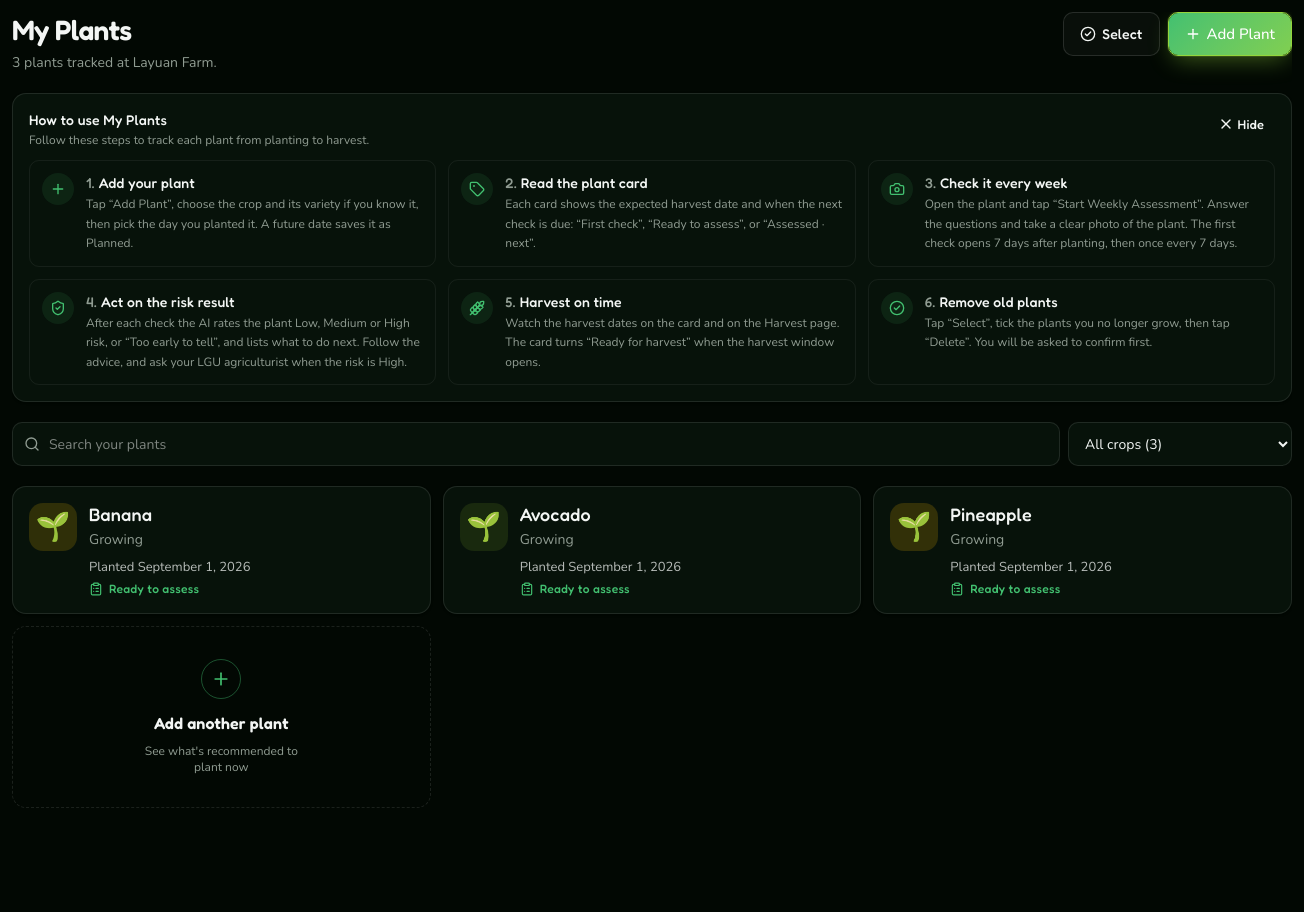
it: My Plants › leaves selection mode with Cancel
Click the button "Select": (1111, 34) [1063,12,1160,56]
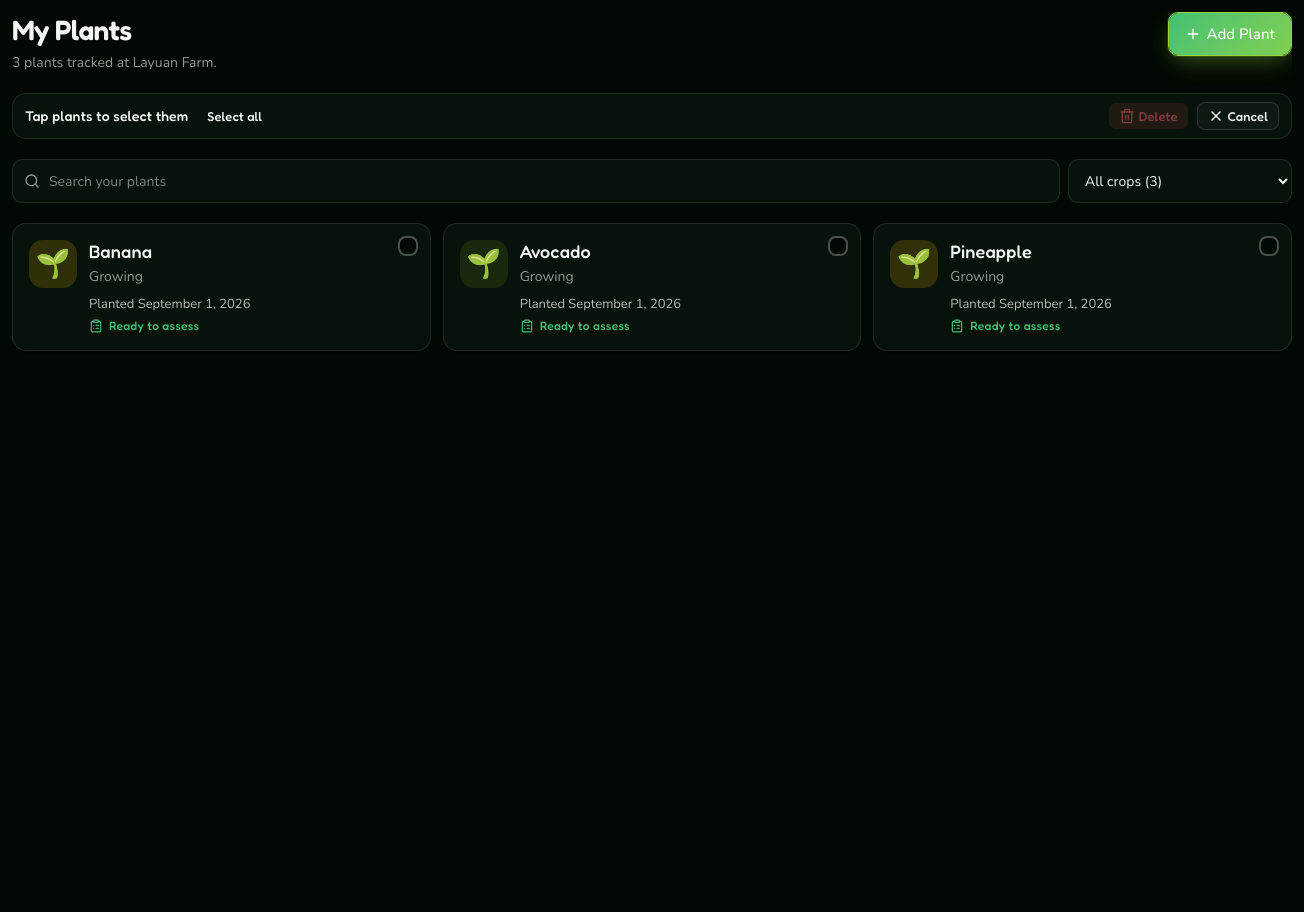
Click the checkbox named "Select Banana": (221, 287) [12,223,431,351]
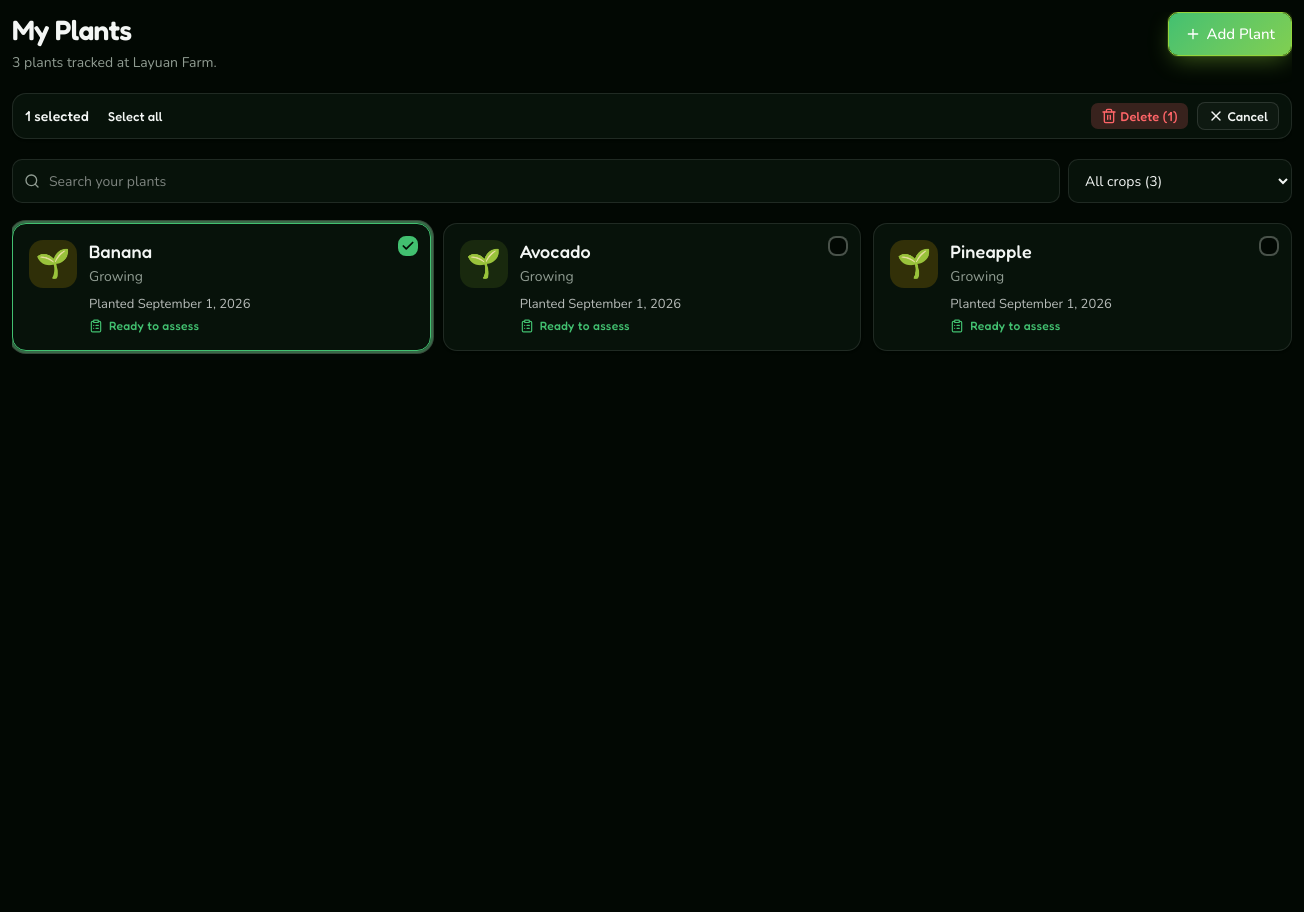
Click the button "Cancel": (1238, 116) [1196,102,1279,130]
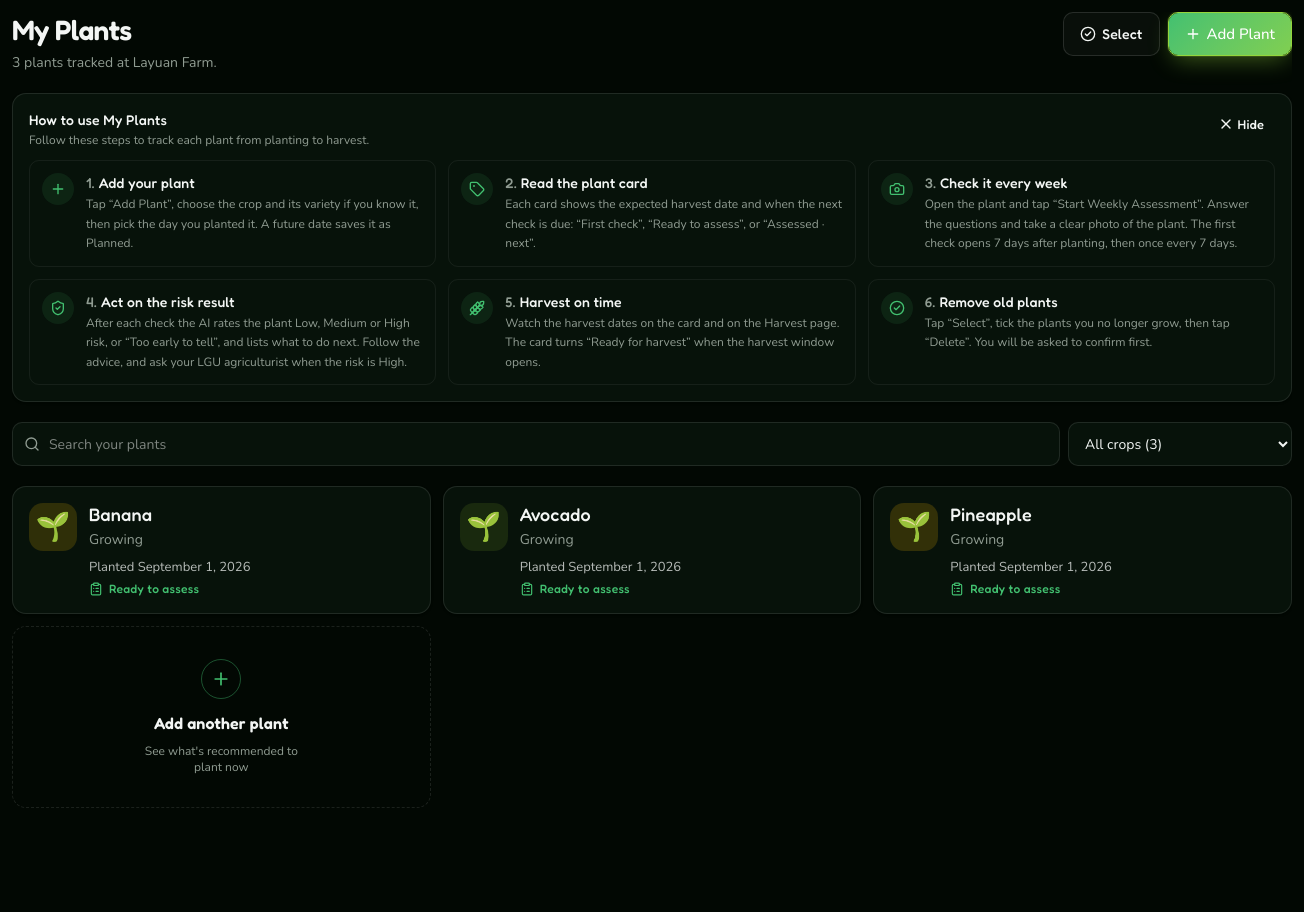
Expected: the text "Banana" is shown, [89,503,152,525]
Expected: the checkbox is gone
